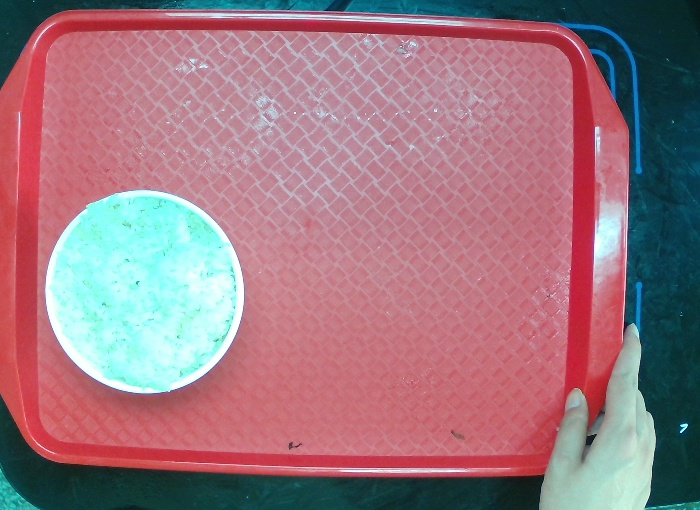YKMZ-Fan_Wan: (37, 177, 257, 406)
